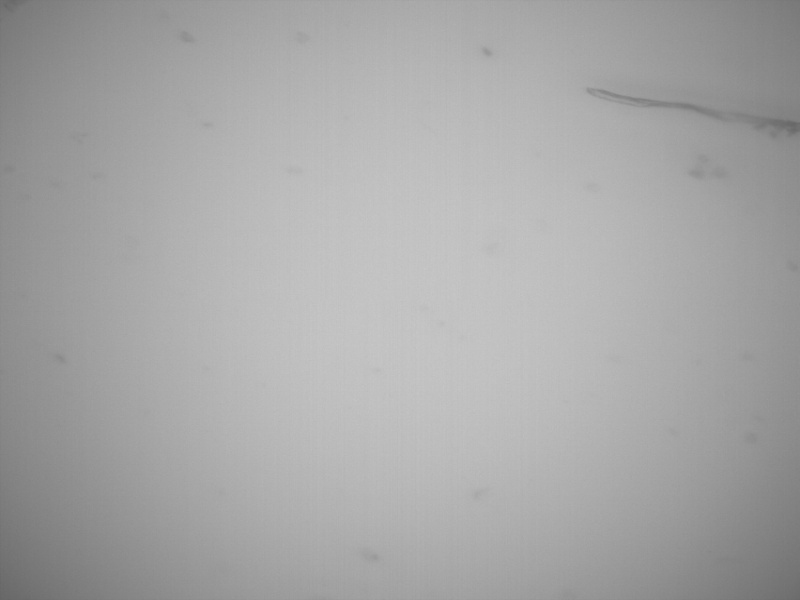fiber: (583, 82, 800, 149)
